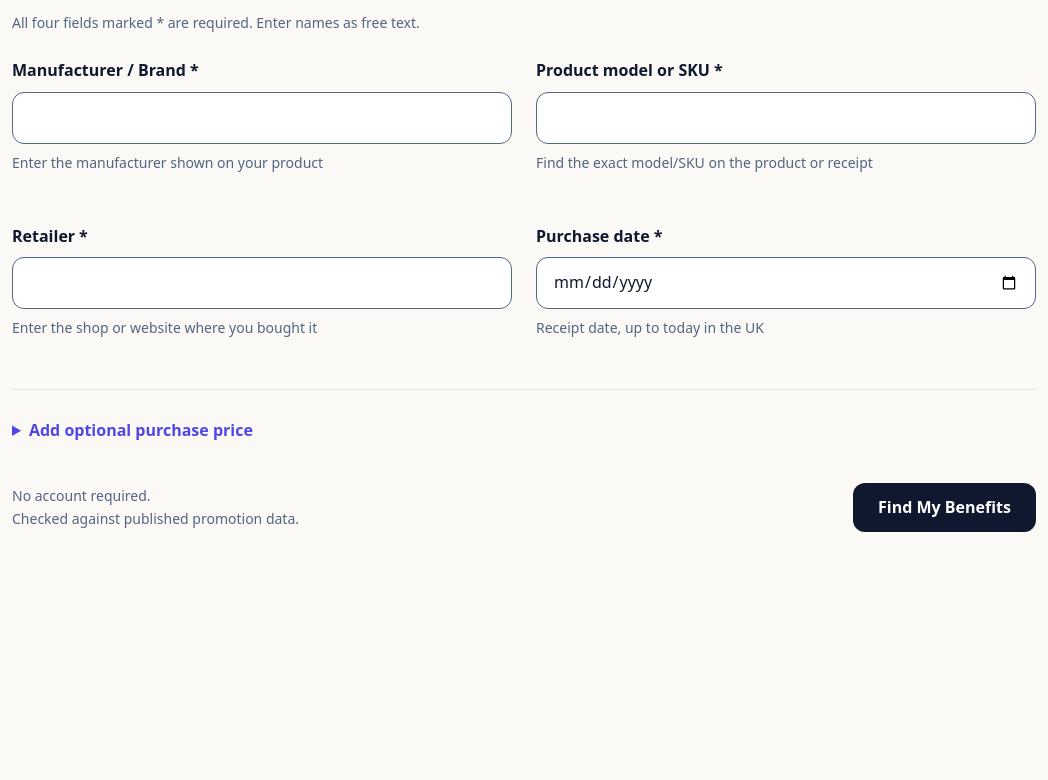
guides unresolved not_found correction without UUIDs
Type "Example" into the field labelled "Manufacturer / Brand".
click(262, 118); type("Example")  # box [12, 92, 512, 144]
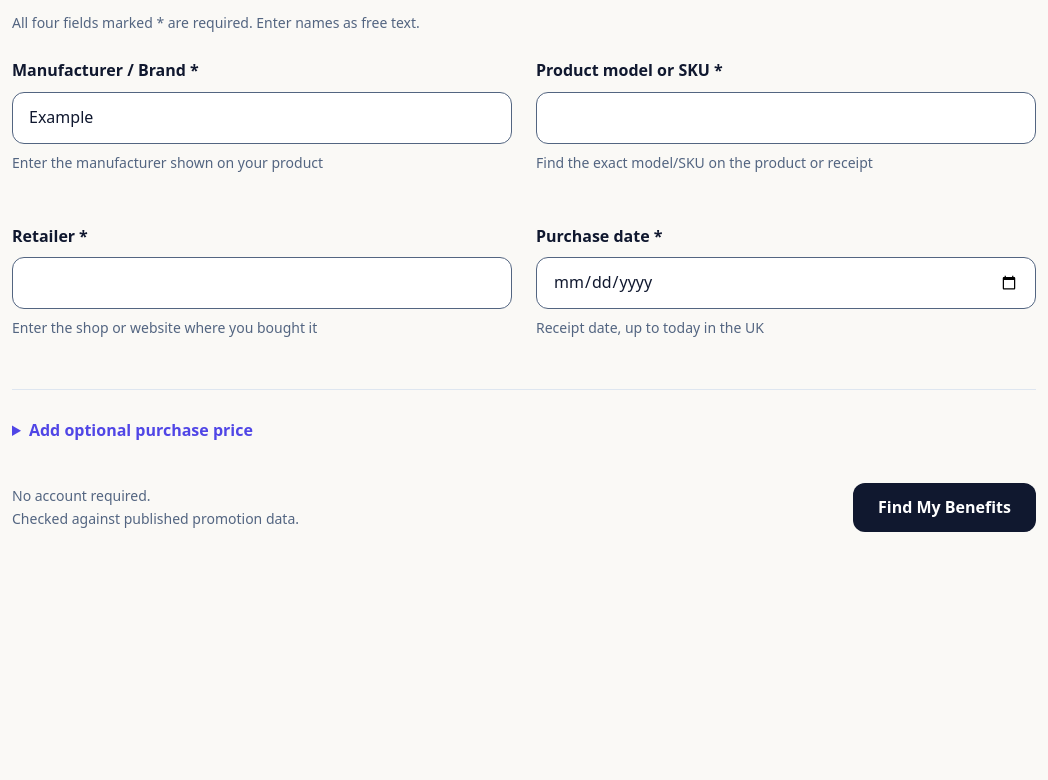
Type " SKU /-1 " into the field labelled "Product model or SKU".
click(786, 118); type(" SKU /-1 ")  # box [536, 92, 1036, 144]
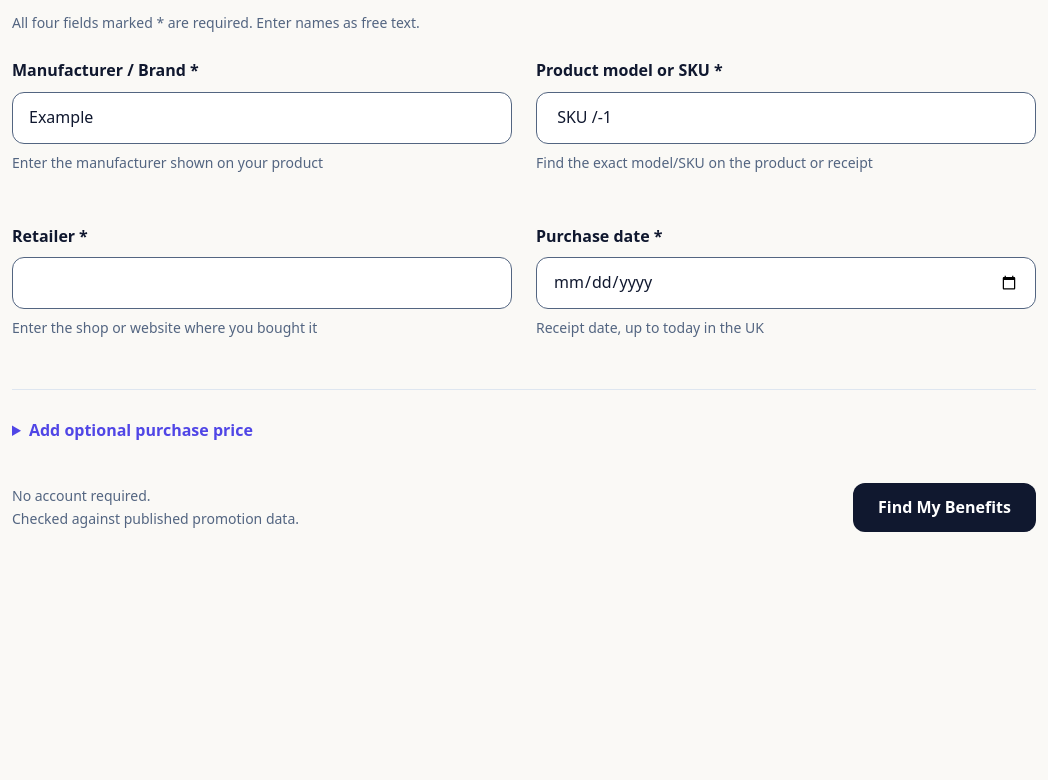
Type "Shop" into the field labelled "Retailer".
click(262, 283); type("Shop")  # box [12, 257, 512, 309]
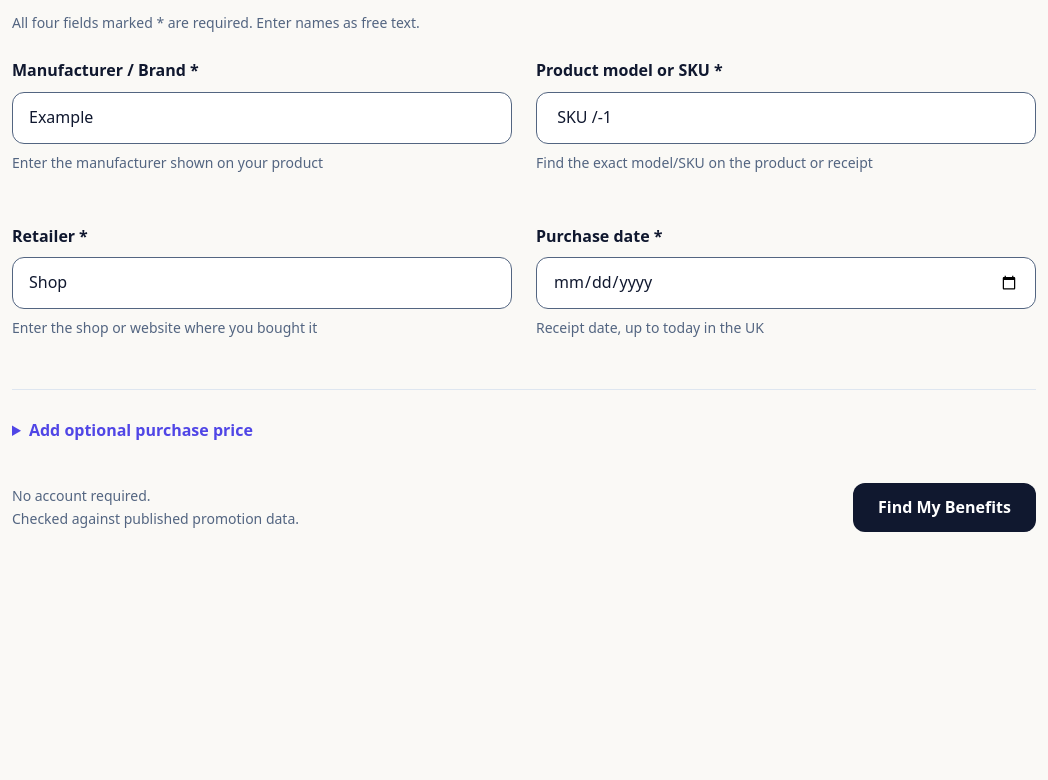
Type "2024-02-29" into the date field labelled "Purchase date".
click(786, 283); type("2024-02-29")  # box [536, 257, 1036, 309]
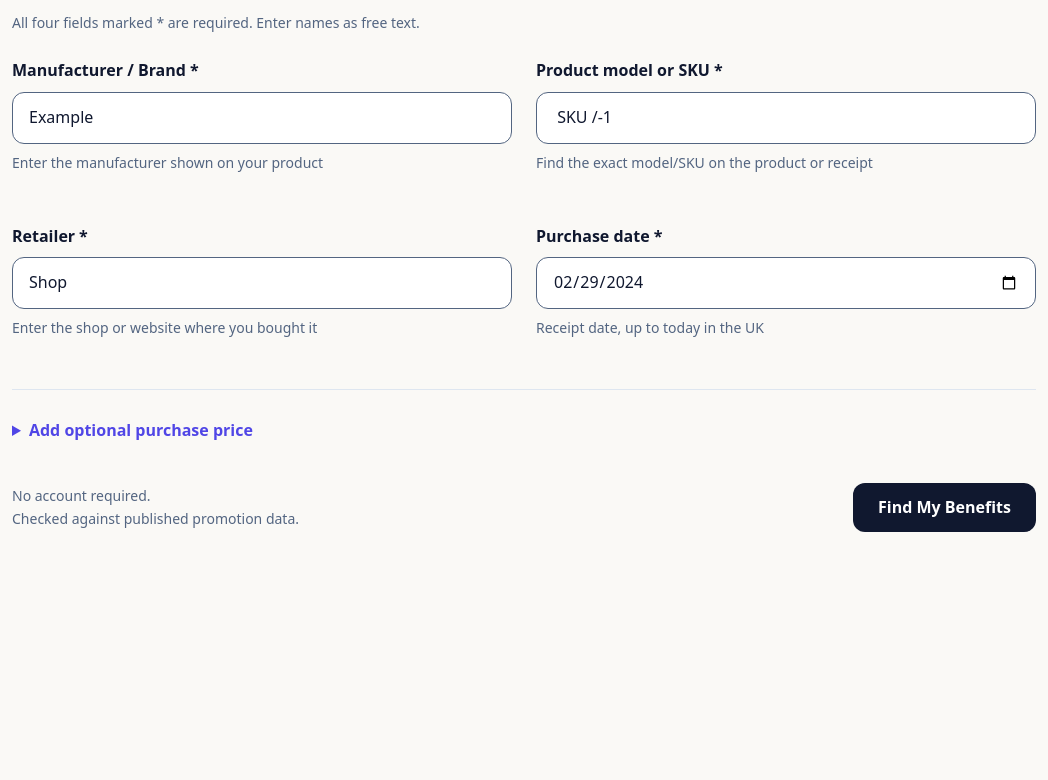
Submit the form
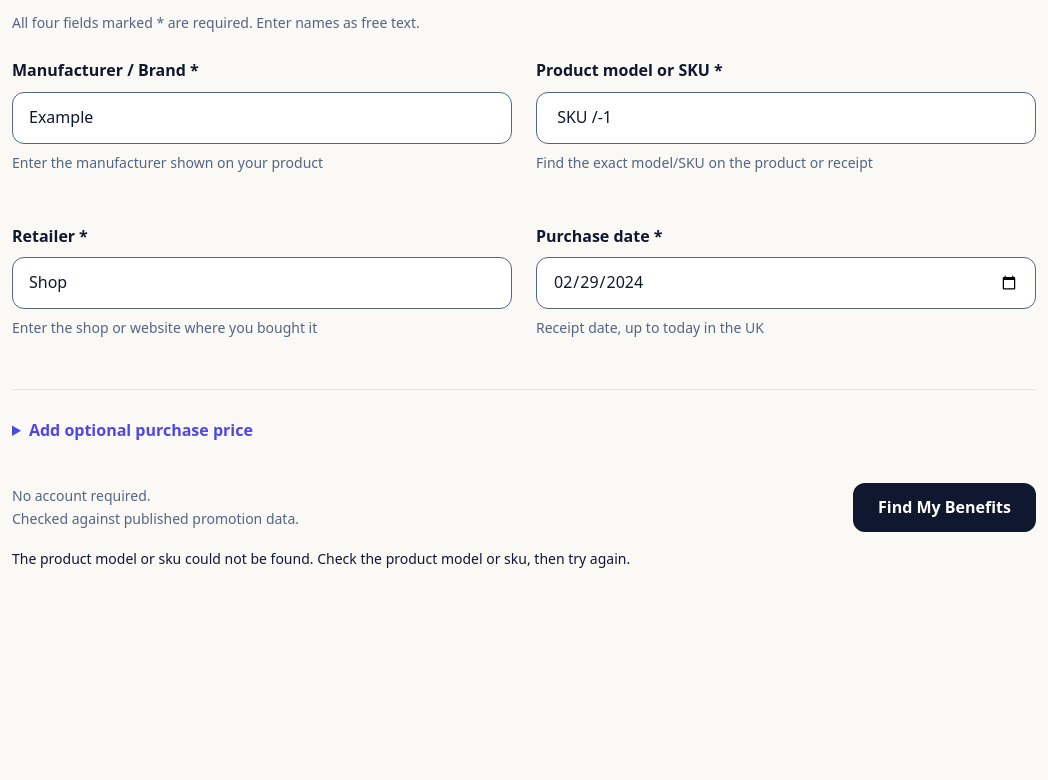
Expected: the message shows "product model or sku could not be found", [12, 549, 630, 568]
Expected: the message shows "try again", [12, 549, 630, 568]
